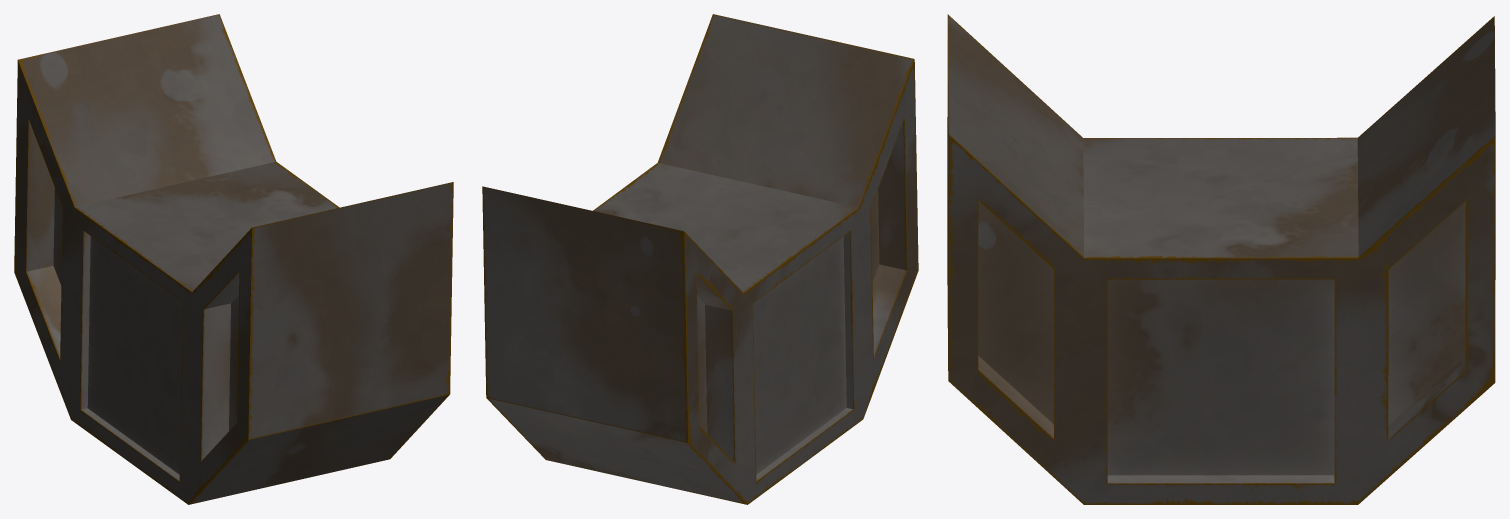
File: MetalHead.fbx
The picture shows the model from 3 angles, left to right: view 1: azimuth 30°, elevation 25°; view 2: azimuth 150°, elevation 25°; view 3: azimuth 270°, elevation 25°; orthographic projection. The views are drawn at different scales.
Visible parts, largest first — view 1: Cube.012; view 2: Cube.012; view 3: Cube.012.
Part boxes in pixels (x1,y1,x2,y2): Cube.012: (14, 14, 453, 504); Cube.012: (482, 14, 918, 504); Cube.012: (947, 14, 1495, 504).
Size of the model in its own units: 313 by 461 by 605.
Materials: 1 (1 with a texture image).
